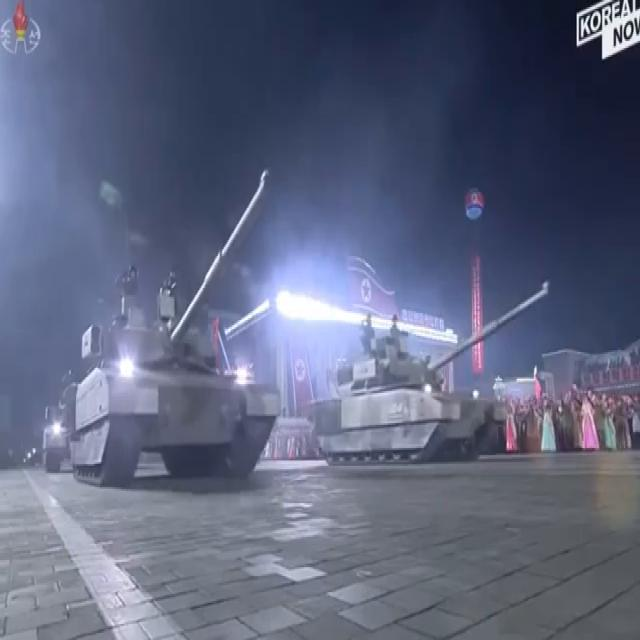north tank: (7, 155, 285, 525), (303, 284, 594, 512)
